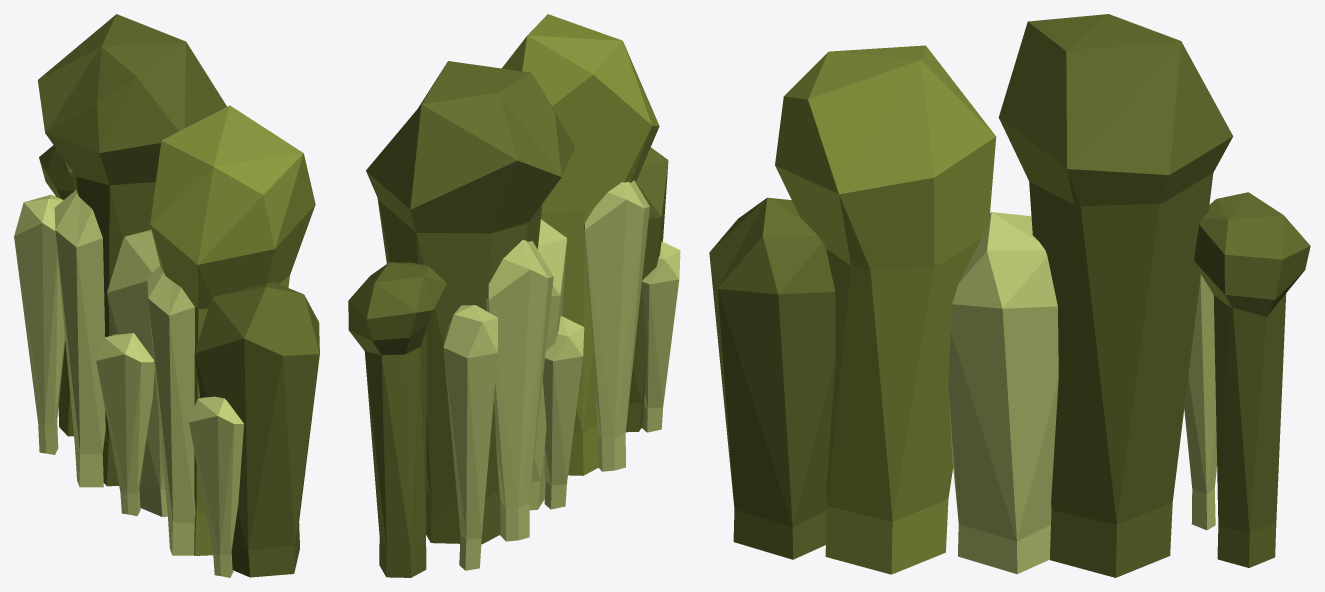
Rendered from ea_swamp_grass_01d_pre__2__lev1.glb.
3 renders of one model, left to right at view 1: azimuth 30°, elevation 25°; view 2: azimuth 150°, elevation 25°; view 3: azimuth 270°, elevation 25°, orthographic. The views are drawn at different scales.
Parts seen in each view (by area): view 1: ea_swamp_grass_01d_pre__2__lev1; view 2: ea_swamp_grass_01d_pre__2__lev1; view 3: ea_swamp_grass_01d_pre__2__lev1.
Boxes of the visible parts, x1,y1,x2,y2 form: ea_swamp_grass_01d_pre__2__lev1: (14, 14, 319, 577); ea_swamp_grass_01d_pre__2__lev1: (348, 14, 680, 577); ea_swamp_grass_01d_pre__2__lev1: (709, 14, 1310, 577).
Bounding box in the file's own units: 0.1691 × 0.4168 × 0.4351.
1 material, 1 textured.
